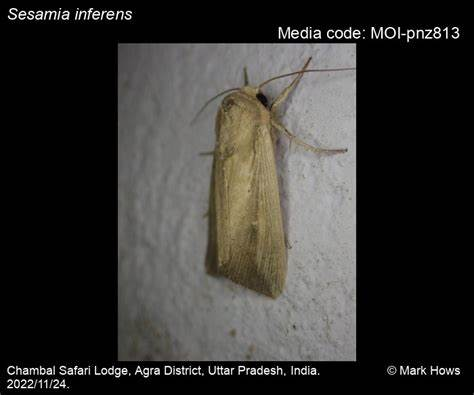Noctuidae: (192, 56, 346, 302)
